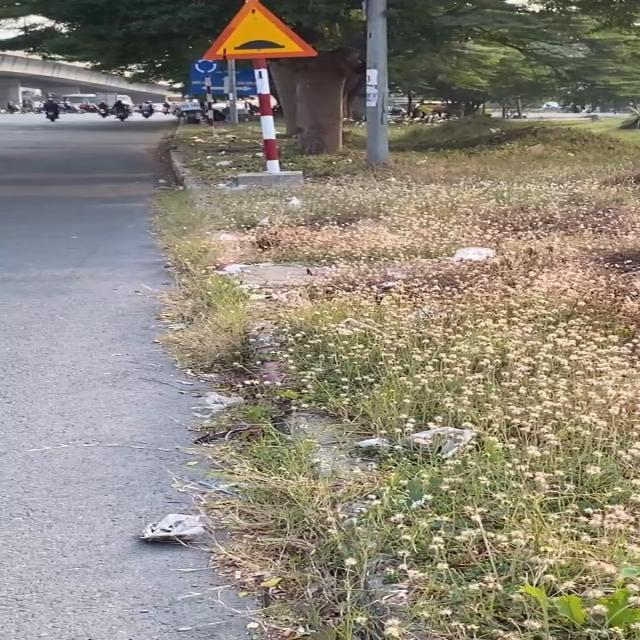221-duong-go-ghe: (200, 0, 320, 60)
303-noi-giao-nhau-chay-theo-vong-xuyen: (194, 56, 220, 76)
